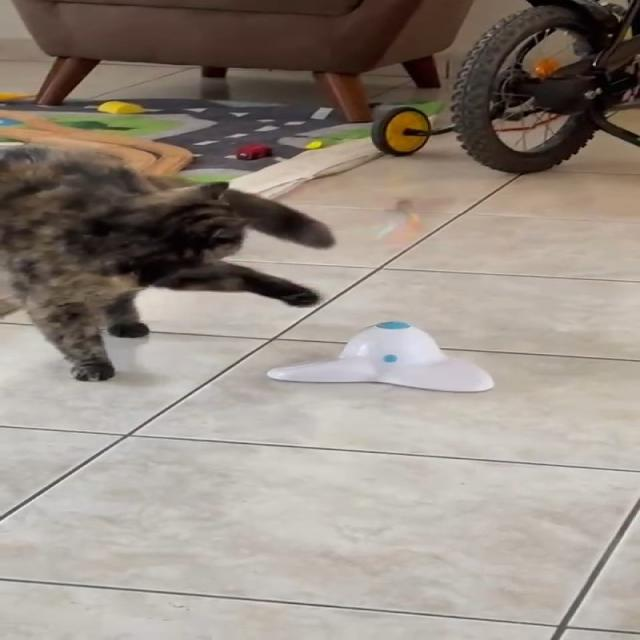authorized: (0, 143, 335, 382)
